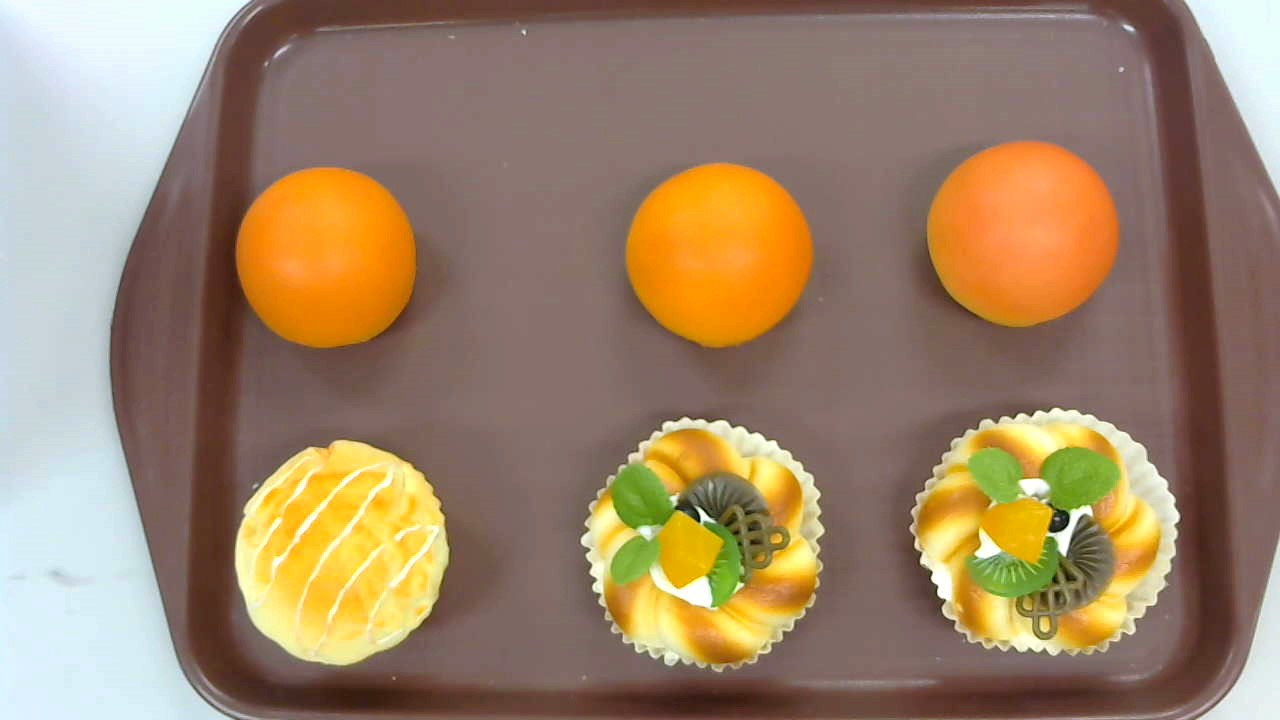bun: (925, 140, 1118, 328), (624, 162, 815, 350), (235, 167, 416, 348)
cupcake: (233, 438, 450, 665)
fruit tart: (910, 407, 1182, 657), (580, 416, 824, 675)
